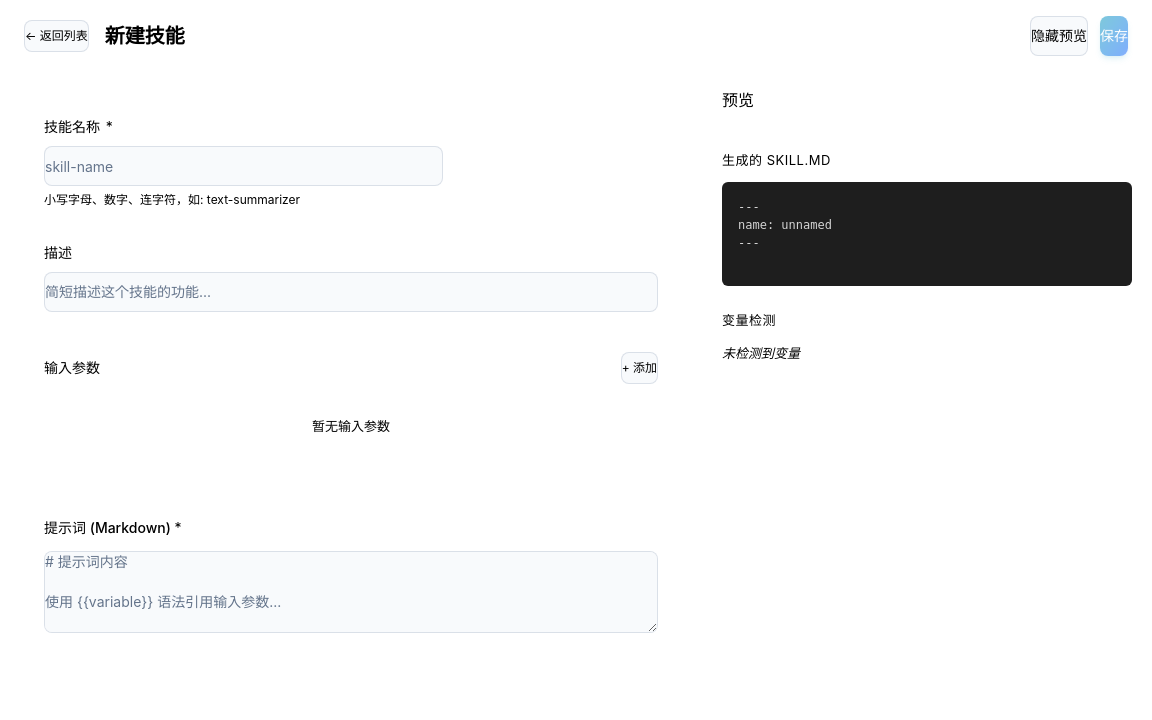
it: SkillEditor Form Validation › should validate skill name format
Type "Invalid_Name" into the field with placeholder "skill-name".
click(243, 166); type("Invalid_Name")  # box left=44, top=146, right=443, bottom=186
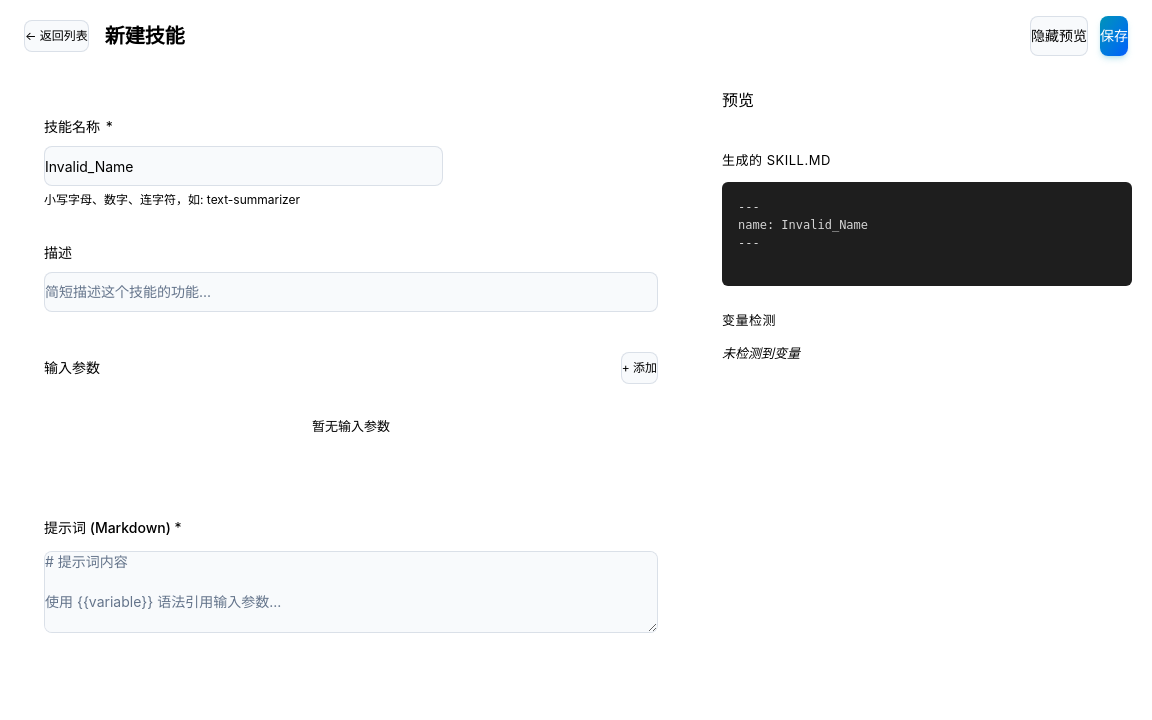
Leave the 1st field, box left=44, top=146, right=443, bottom=186
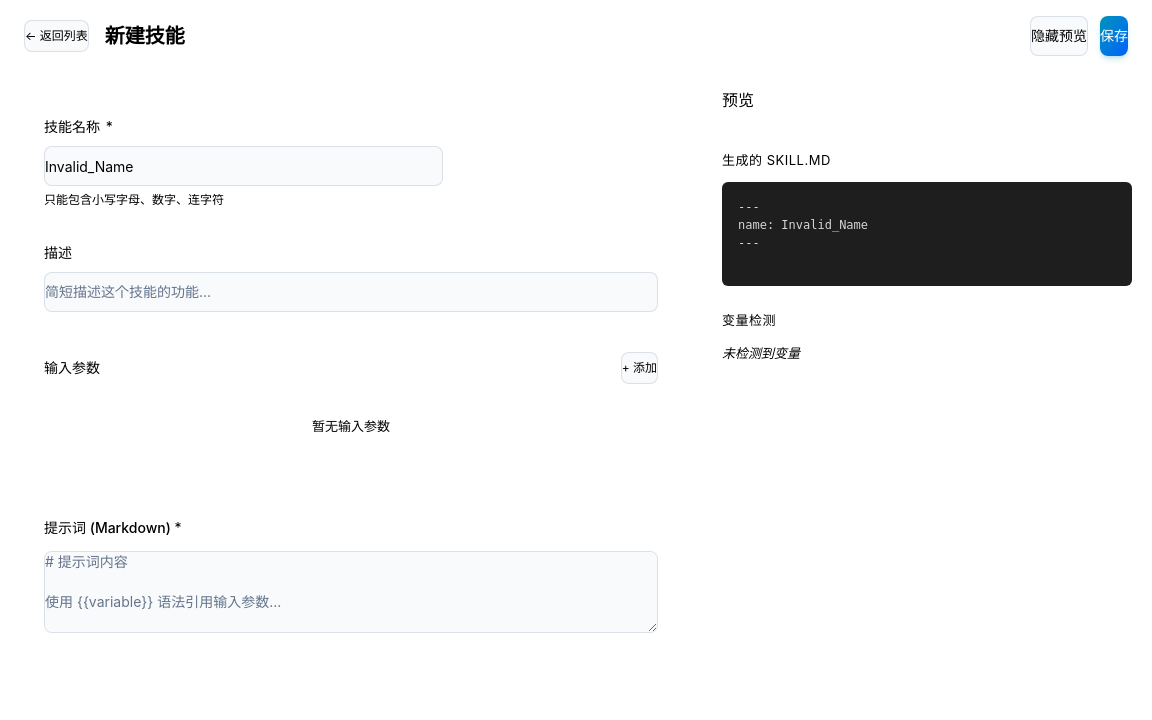
expect the text "只能包含小写字母、数字、连字符" is shown: met, box left=44, top=192, right=224, bottom=207
